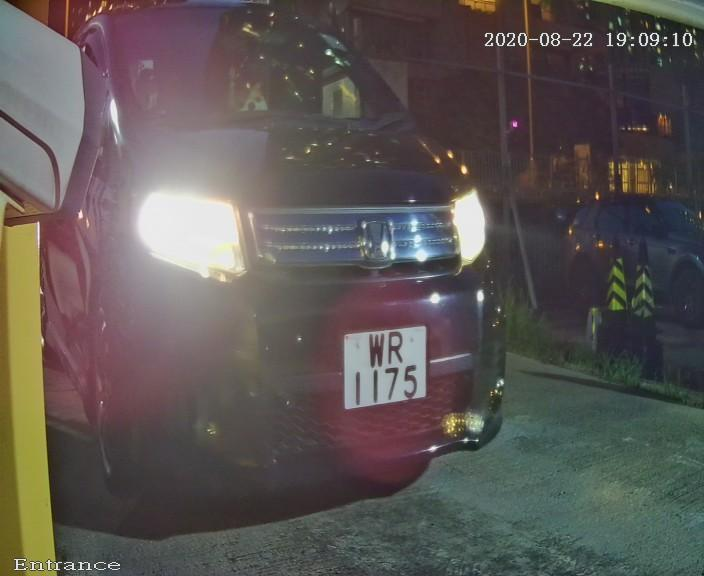Car: (4, 3, 566, 541)
License Plate: (334, 317, 441, 417)
